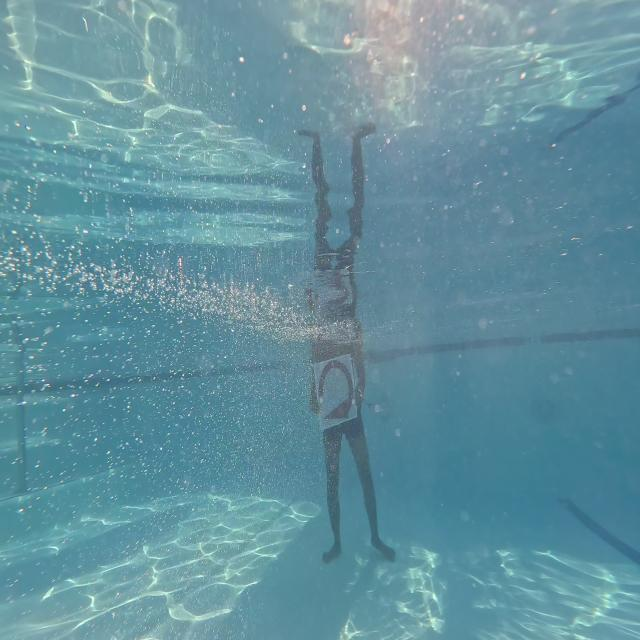red_side: (307, 348, 366, 442)
